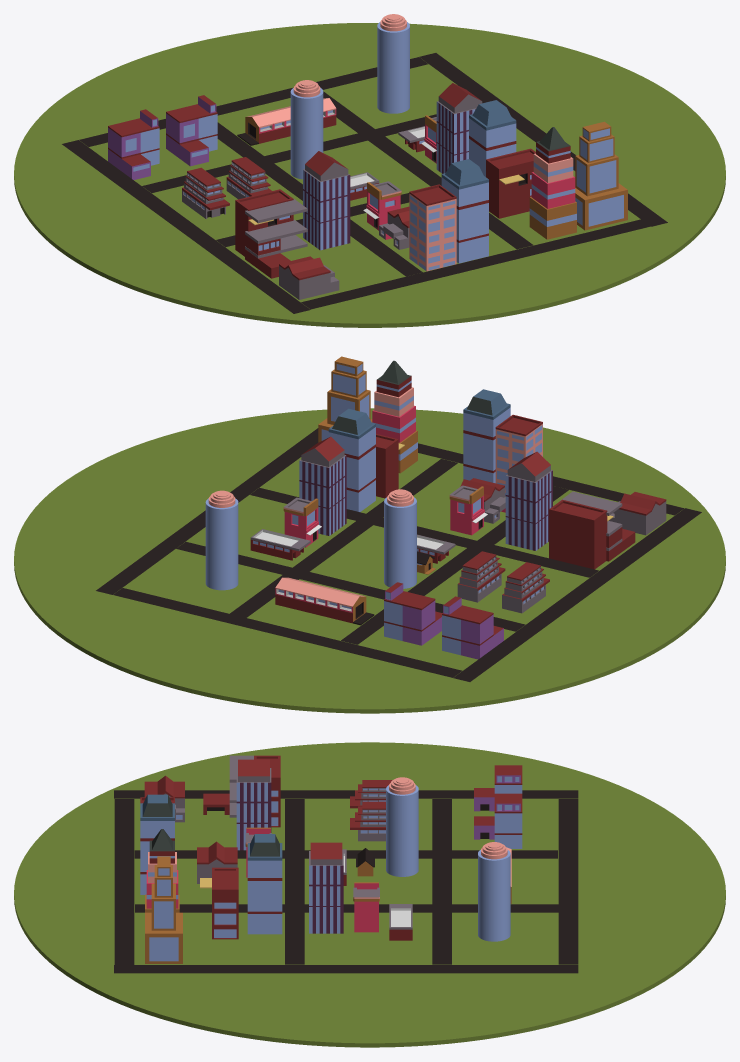
Rendered from City.glb.
The picture shows the model from 3 angles, top to bottom: view 1: azimuth 30°, elevation 25°; view 2: azimuth 150°, elevation 25°; view 3: azimuth 270°, elevation 25°; orthographic projection.
Parts seen in each view (by area): view 1: Cylinder, Cube.009, Cube.008, Cube.011, Plane, Cube.006, Cube.007, Plane.006, Cylinder.002, Cube.022, Cube.020, Cylinder.001 (+18 smaller); view 2: Cylinder, Cube.011, Plane, Cube.027, Cube.013, Plane.004, Cube.028, Cube.008, Cylinder.002, Plane.007, Cube.007, Cylinder.001 (+20 smaller); view 3: Cylinder, Plane.007, Cube.028, Plane.004, Plane.006, Cube.027, Cube.009, Cylinder.001, Cylinder.002, Plane.003, Plane.005, Cube.011 (+16 smaller).
Part boxes in pixels (x1=…): Cylinder: x1=14, y1=23, x2=725, y2=327; Cube.009: x1=575, y1=121, x2=627, y2=230; Cube.008: x1=529, y1=127, x2=576, y2=239; Cube.011: x1=303, y1=151, x2=350, y2=250; Plane: x1=62, y1=140, x2=310, y2=313; Cube.006: x1=409, y1=184, x2=456, y2=271; Cube.007: x1=441, y1=159, x2=488, y2=263; Plane.006: x1=301, y1=219, x2=650, y2=309; Cylinder.002: x1=377, y1=14, x2=409, y2=113; Cube.022: x1=166, y1=95, x2=217, y2=166; Cube.020: x1=108, y1=109, x2=159, y2=179; Cylinder.001: x1=290, y1=80, x2=323, y2=179; Cylinder: x1=14, y1=408, x2=725, y2=713; Cube.011: x1=505, y1=451, x2=552, y2=550; Plane: x1=453, y1=508, x2=701, y2=681; Cube.027: x1=299, y1=436, x2=346, y2=535; Cube.013: x1=549, y1=499, x2=613, y2=569; Plane.004: x1=113, y1=588, x2=462, y2=677; Cube.028: x1=328, y1=408, x2=375, y2=511; Cube.008: x1=372, y1=360, x2=417, y2=473; Cylinder.002: x1=205, y1=490, x2=238, y2=590; Plane.007: x1=96, y1=428, x2=318, y2=594; Cube.007: x1=463, y1=389, x2=510, y2=483; Cylinder.001: x1=384, y1=489, x2=416, y2=588; Cylinder: x1=14, y1=742, x2=725, y2=1047; Plane.007: x1=114, y1=965, x2=578, y2=973; Cube.028: x1=247, y1=834, x2=282, y2=934; Plane.004: x1=558, y1=799, x2=578, y2=964; Plane.006: x1=114, y1=799, x2=134, y2=964; Cube.027: x1=309, y1=842, x2=343, y2=933; Cube.009: x1=145, y1=856, x2=182, y2=963; Cylinder.001: x1=386, y1=777, x2=418, y2=876; Cylinder.002: x1=478, y1=842, x2=510, y2=941; Plane.003: x1=432, y1=799, x2=451, y2=964; Plane.005: x1=285, y1=799, x2=304, y2=964; Cube.011: x1=236, y1=759, x2=271, y2=850.
Bounding box in the file's own units: 132 × 21.87 × 132.
